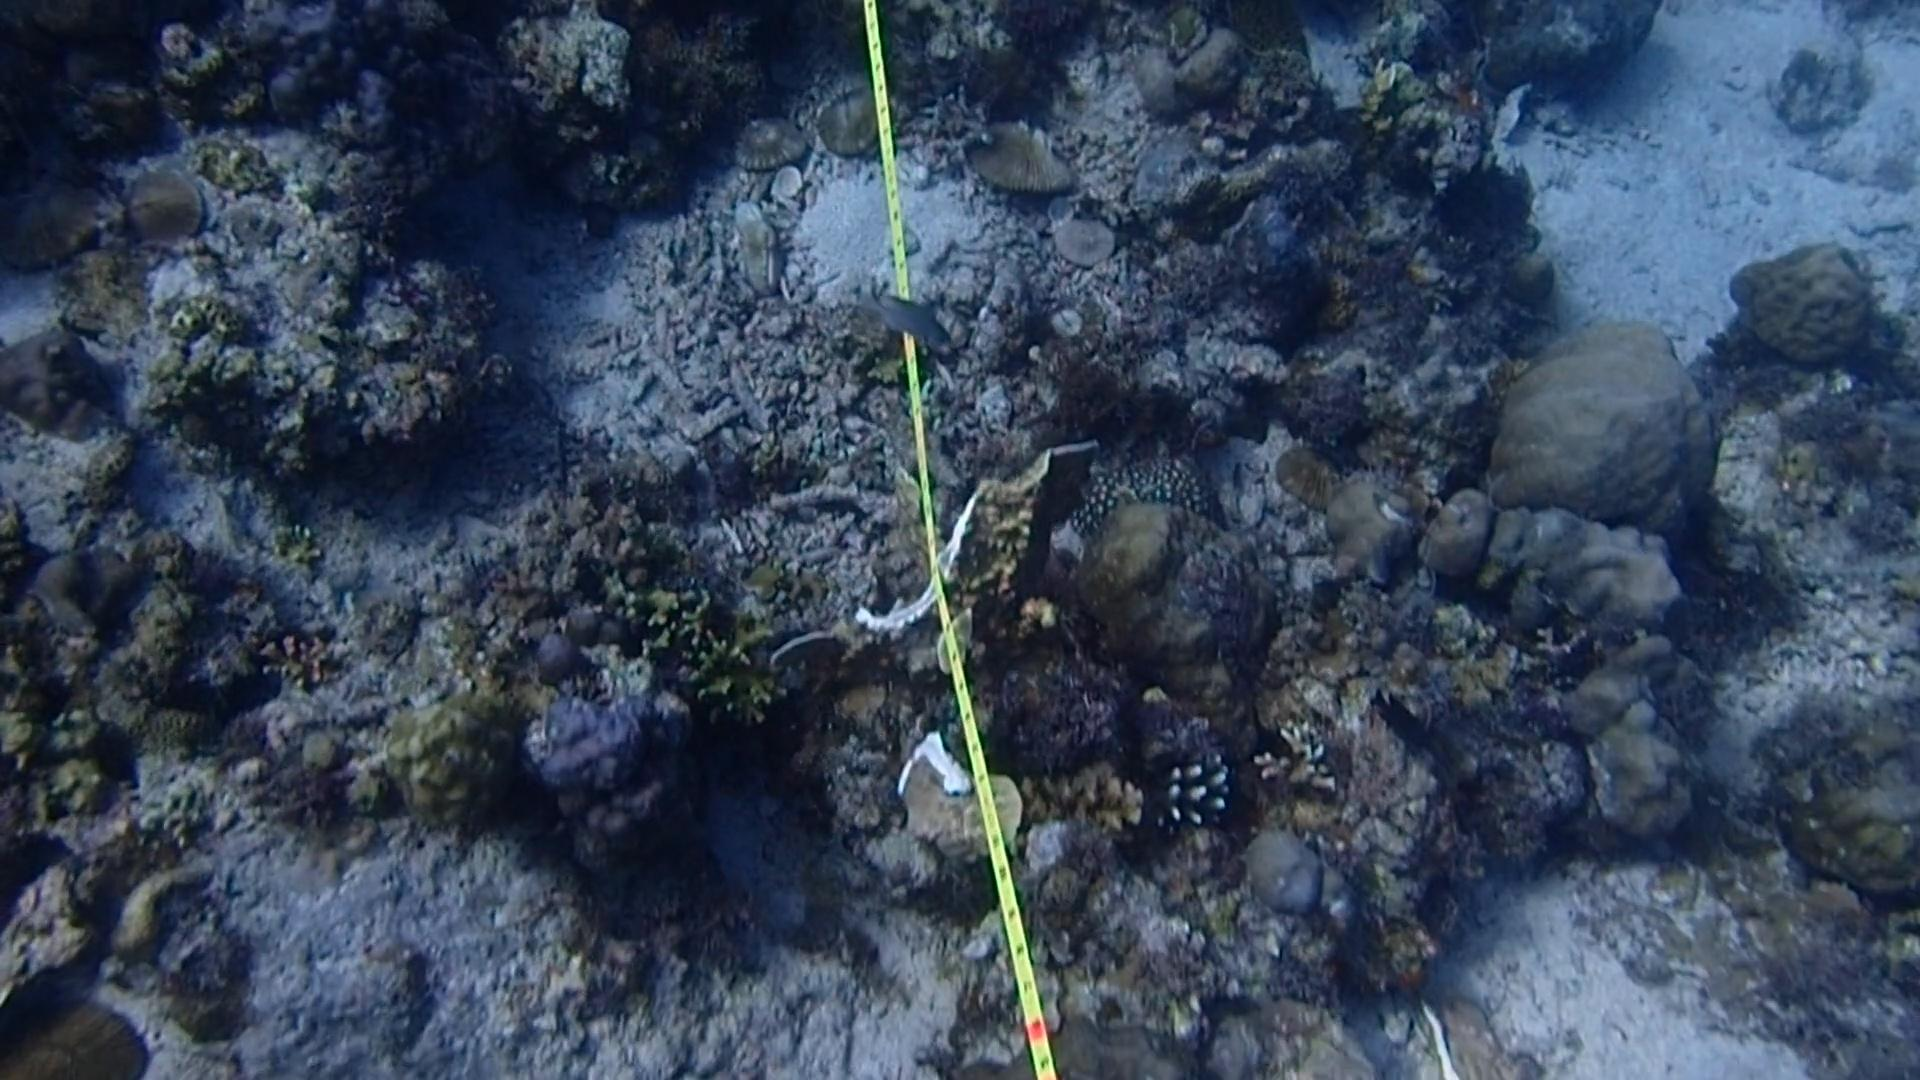Light Fish: (858, 278, 957, 355)
